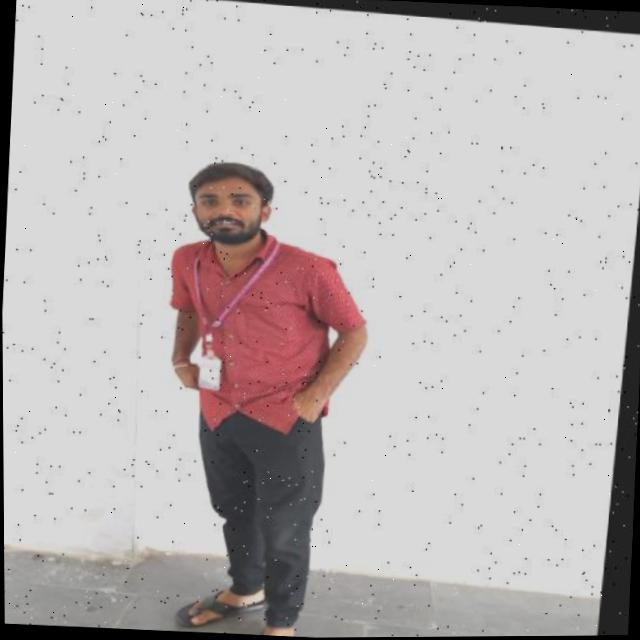id_card: (181, 234, 275, 393)
